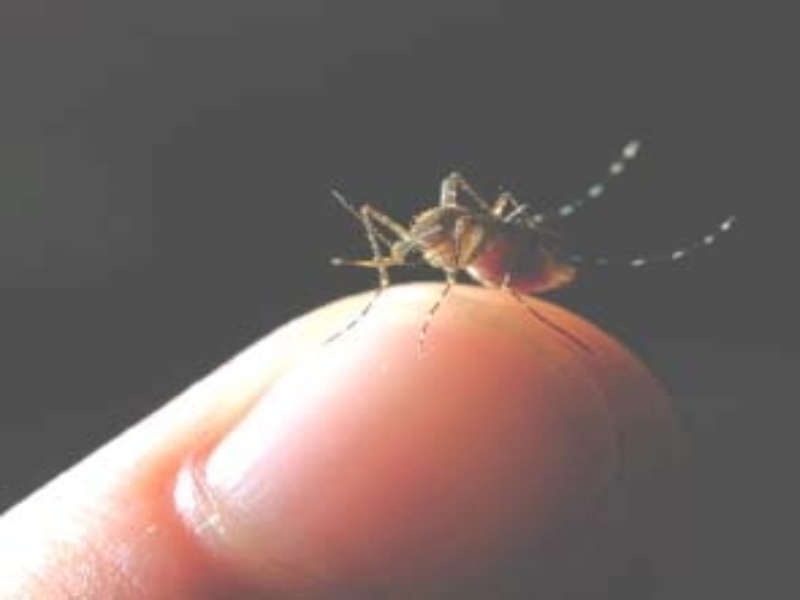dengue_mosquito: (339, 168, 593, 314)
